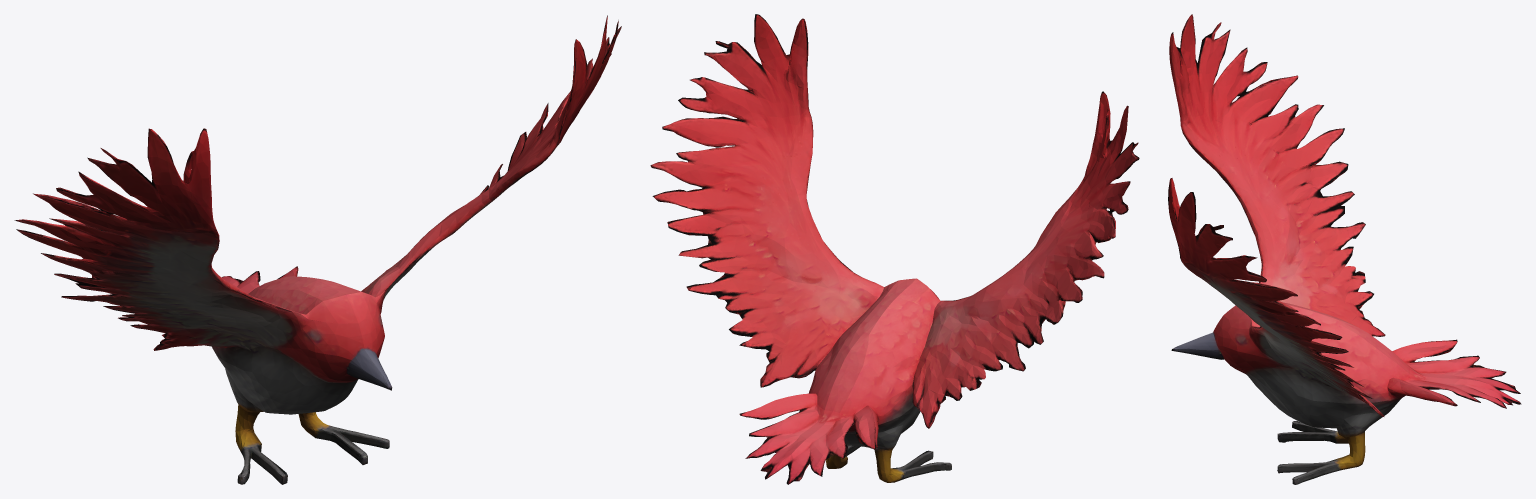
3 renders of one model, left to right at view 1: azimuth 30°, elevation 25°; view 2: azimuth 150°, elevation 25°; view 3: azimuth 270°, elevation 25°, orthographic. The views are drawn at different scales.
Visible parts, largest first — view 1: world; view 2: world; view 3: world.
Boxes of the visible parts, <box> form: world: <box>14,15,621,484</box>; world: <box>650,14,1139,484</box>; world: <box>1168,14,1521,484</box>.
Size of the model in its own units: 0.9924 by 0.7502 by 0.6764.
1 material, 1 textured.
